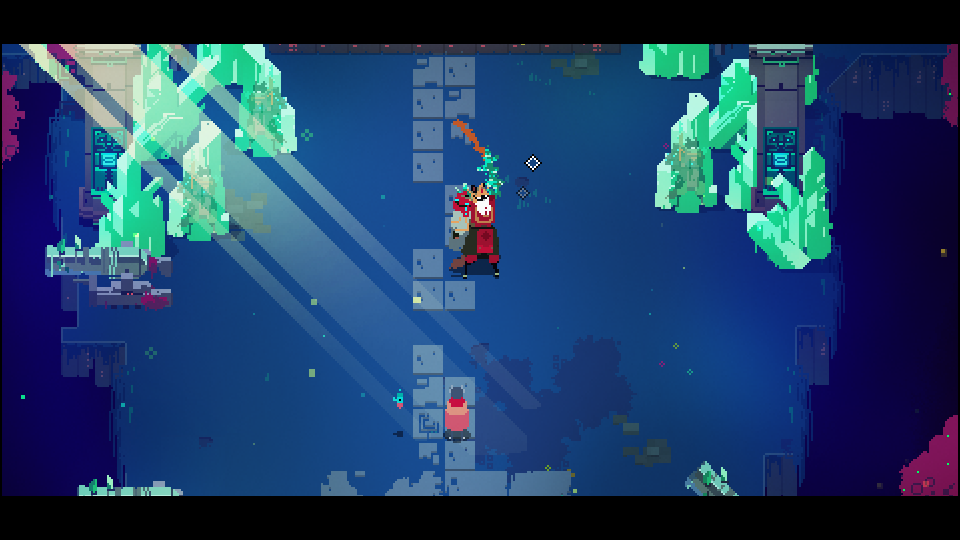hanged_man: (443, 143, 510, 282)
player: (443, 382, 471, 440)
